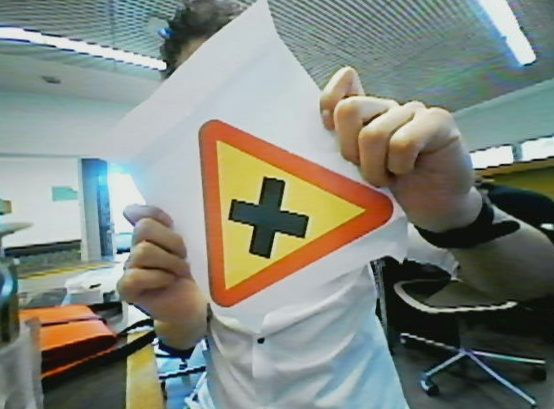junction: (193, 120, 405, 310)
